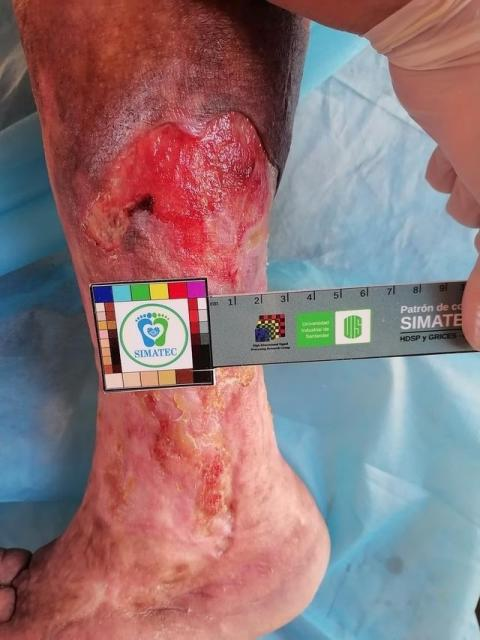wound: (87, 110, 277, 286), (96, 365, 257, 560)
